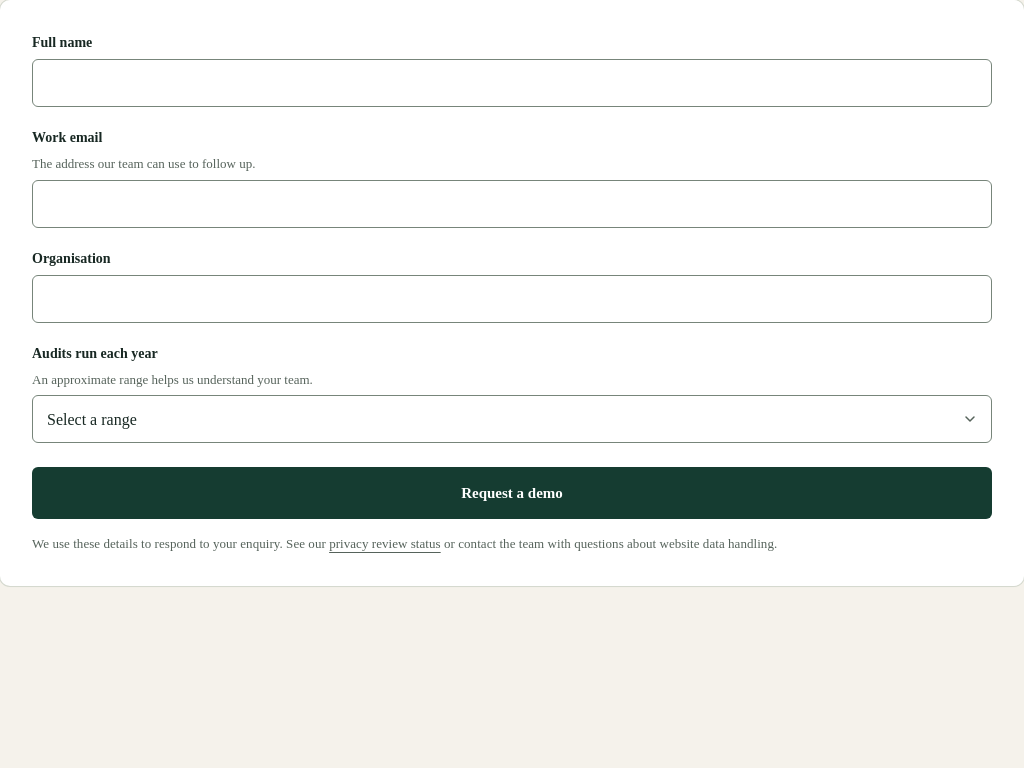
Test: demo form › explains Retry-After and retains the draft
Type "Asha Rao" into the field labelled "Full name".
click(512, 83); type("Asha Rao")  # box [32, 59, 992, 107]
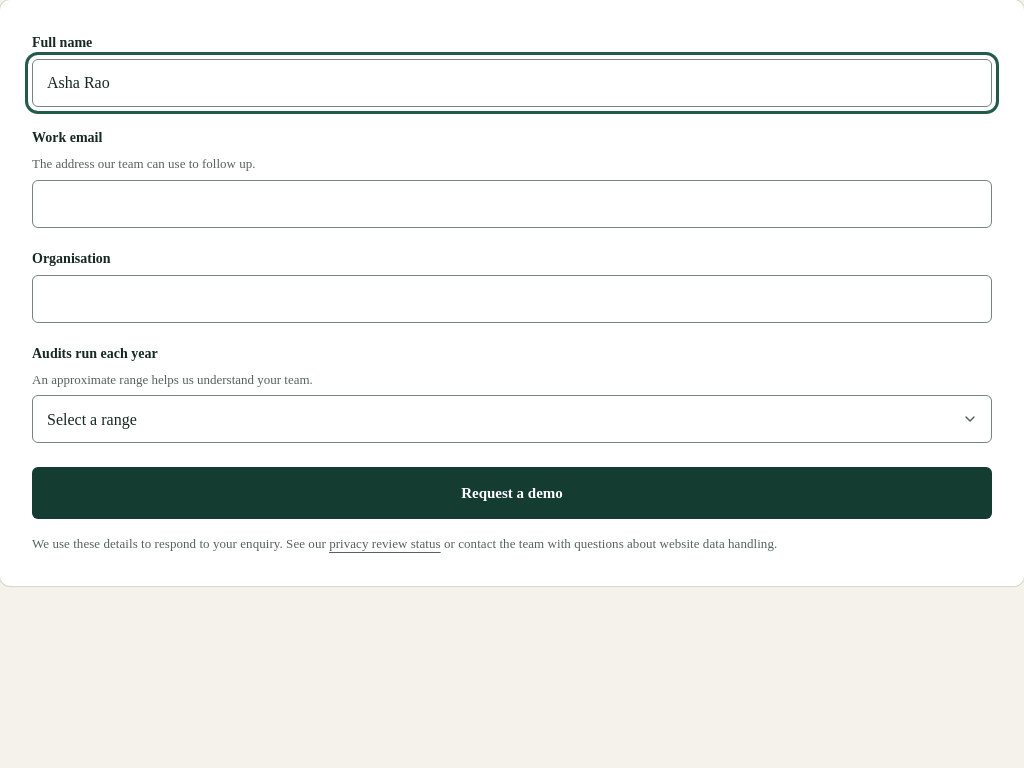
Type "asha@example.com" into the field labelled "Work email".
click(512, 204); type("asha@example.com")  # box [32, 180, 992, 228]
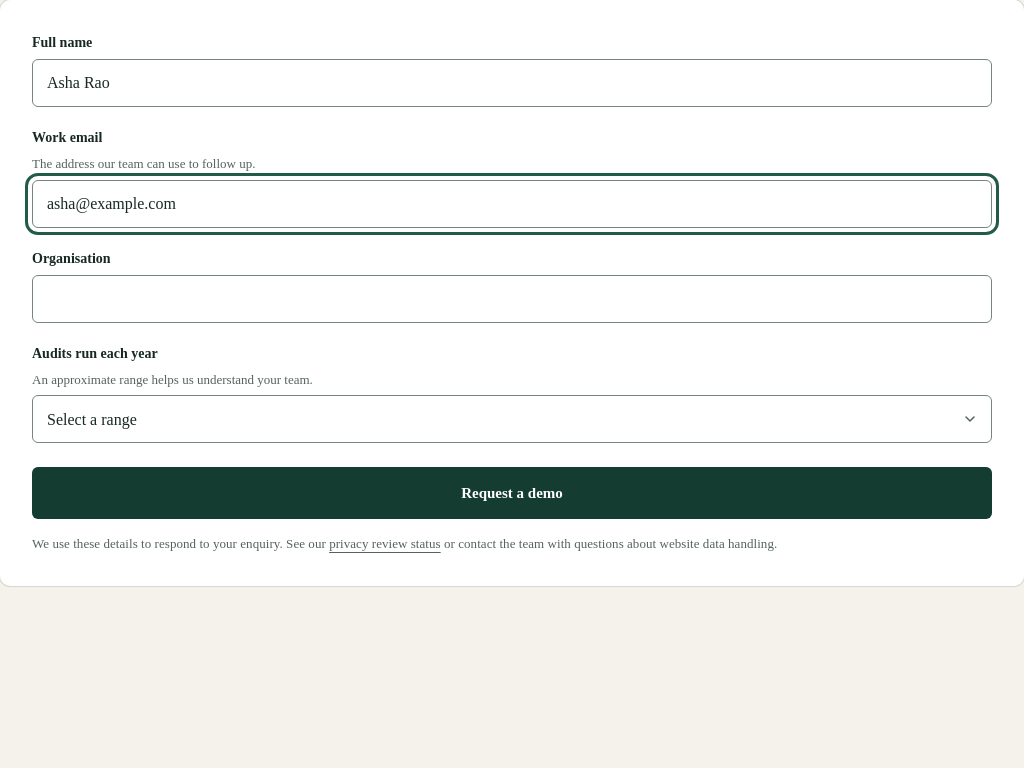
Type "Synthetic Example" into the field labelled "Organisation".
click(512, 298); type("Synthetic Example")  # box [32, 274, 992, 322]
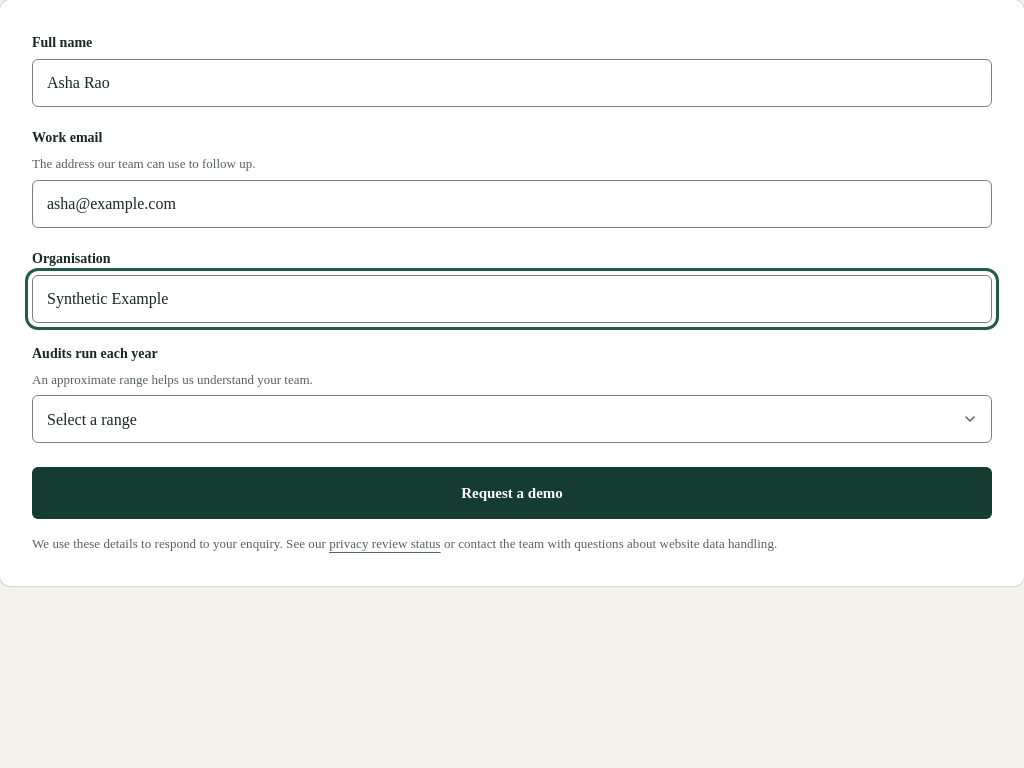
Select "11 – 50 audits a year" in the dropdown labelled "Audits run each year" at point(512, 419), box [32, 395, 992, 443]
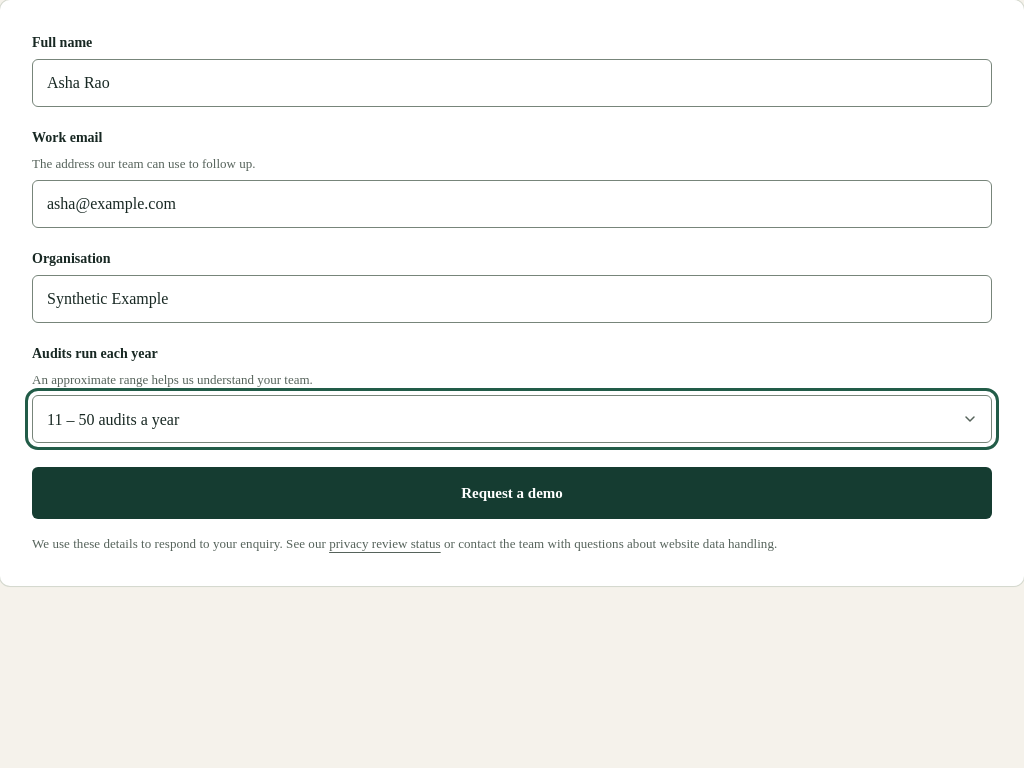
Click the button "Request a demo".
click(512, 493)  # box [32, 467, 992, 519]
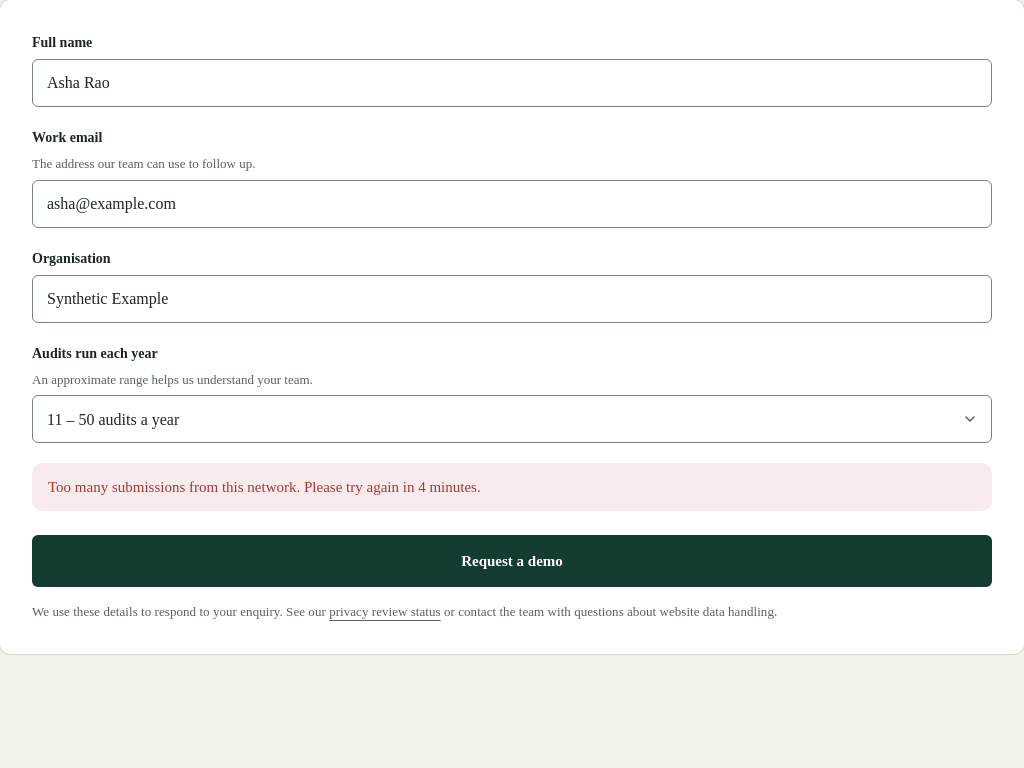
Expected: the message shows "in 4 minutes", [48, 479, 481, 495]
